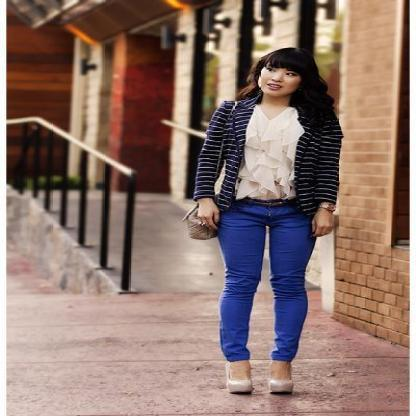jacket: (184, 98, 343, 204)
pants: (214, 196, 323, 364)
shirt: (237, 107, 306, 200)
shoe: (270, 385, 302, 397)
